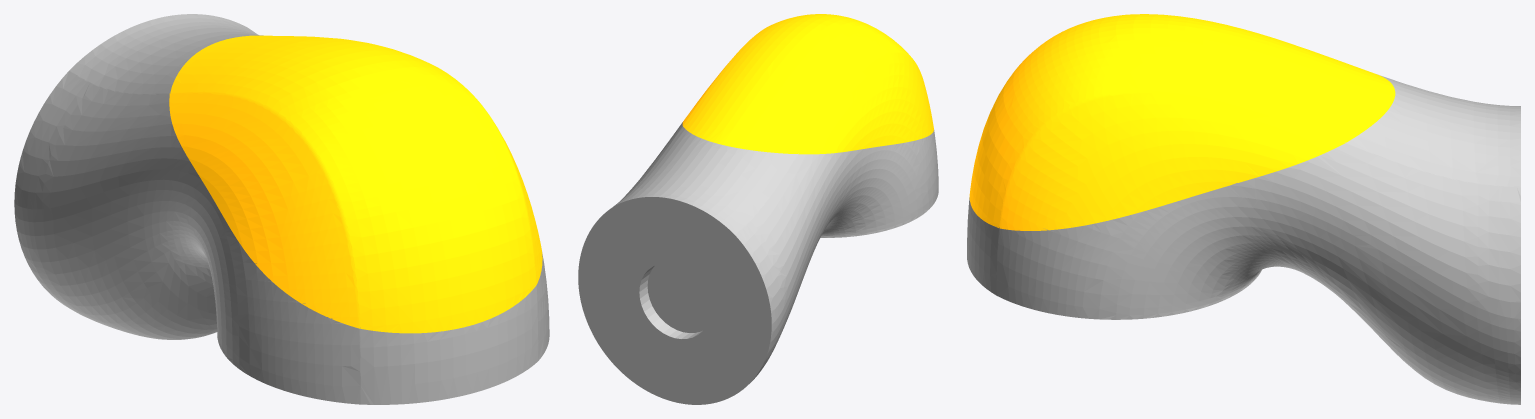
3 views of the same model, side by side, from view 1: azimuth 30°, elevation 25°; view 2: azimuth 150°, elevation 25°; view 3: azimuth 270°, elevation 25° (orthographic). The views are drawn at different scales.
Visible parts, largest first — view 1: Link_4_001, Link_4; view 2: Link_4, Link_4_001; view 3: Link_4, Link_4_001.
Part boxes in pixels (box(x1,y1,x2,y2)): Link_4_001: box(169, 35, 542, 333); Link_4: box(14, 14, 549, 404); Link_4: box(578, 122, 938, 404); Link_4_001: box(682, 14, 933, 154); Link_4: box(967, 75, 1520, 404); Link_4_001: box(969, 14, 1395, 230).
Bounding box in the file's own units: 0.136 × 0.2525 × 0.1826.
